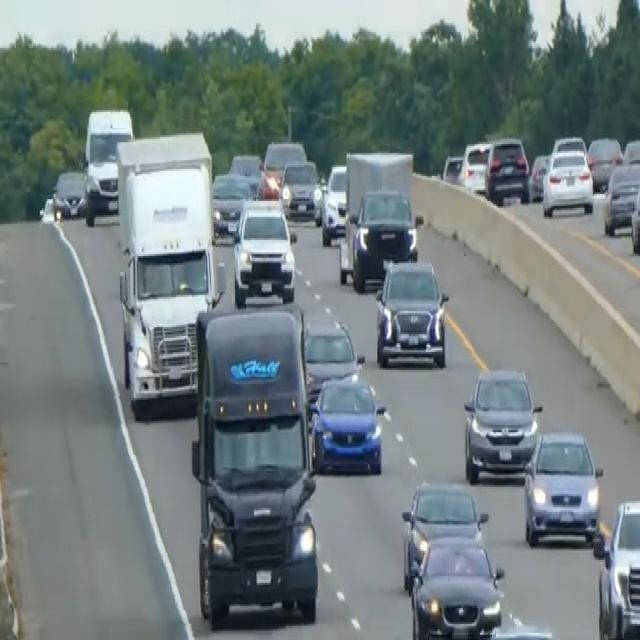car: (409, 532, 504, 638), (400, 478, 488, 590), (522, 427, 602, 548), (462, 362, 541, 483), (374, 256, 449, 368), (309, 372, 386, 474), (346, 185, 418, 290), (232, 196, 296, 304), (593, 496, 639, 638), (301, 314, 364, 412), (541, 146, 594, 217), (484, 135, 530, 205), (210, 169, 257, 235), (280, 158, 323, 224), (603, 158, 639, 235), (260, 137, 306, 195), (320, 162, 348, 245), (587, 134, 622, 190), (458, 138, 492, 194), (52, 167, 86, 219), (550, 133, 588, 162), (441, 151, 463, 185), (38, 192, 61, 224), (630, 174, 639, 254), (621, 135, 639, 167)
lorry: (190, 302, 320, 628), (114, 128, 232, 420)
minibus: (82, 105, 134, 226)
